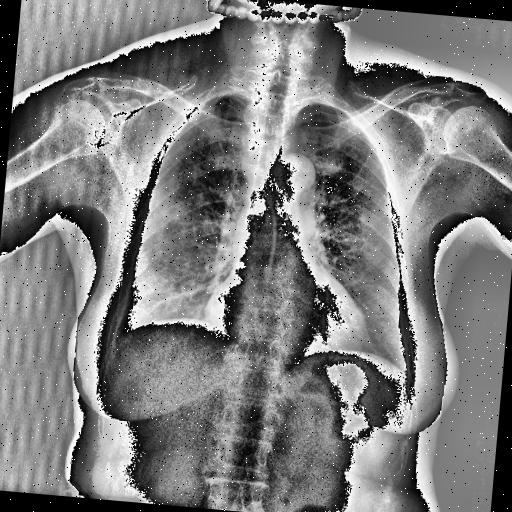0- Aortic enlargement: (234, 144, 325, 207), (260, 151, 324, 214)
5- ILD: (304, 146, 412, 368), (124, 137, 230, 326)
